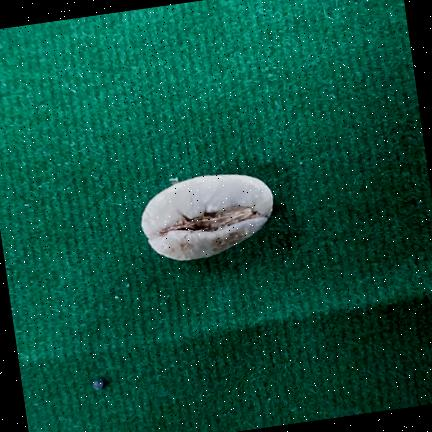husk: (142, 174, 273, 260)
